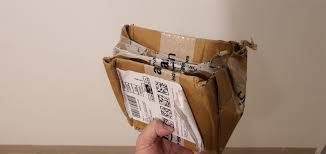damaged package: (102, 24, 247, 142)
